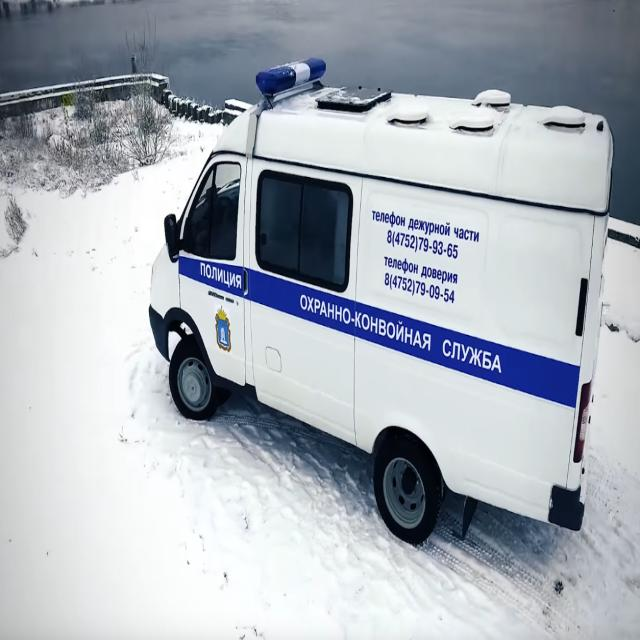police car: (146, 51, 620, 556)
